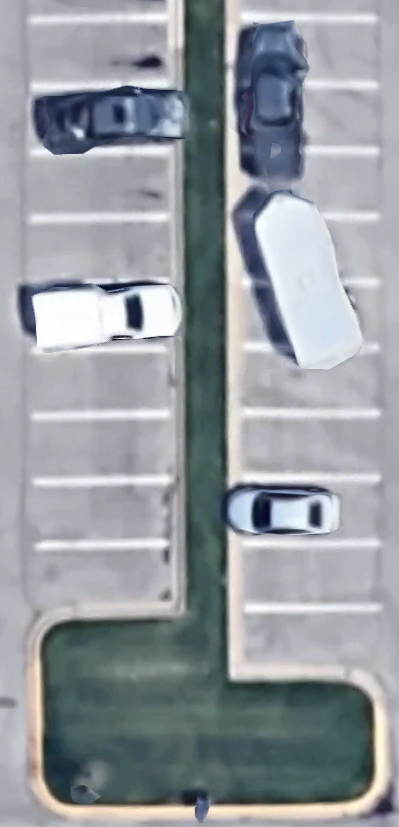Occupied: (233, 15, 377, 85), (233, 217, 379, 285), (30, 282, 176, 350), (233, 85, 377, 152), (235, 477, 379, 544), (233, 348, 379, 414), (233, 284, 380, 349), (28, 87, 176, 150), (233, 153, 379, 216)
Vacant: (28, 17, 172, 87), (30, 151, 177, 218), (32, 479, 174, 546), (234, 544, 379, 609), (30, 350, 175, 414), (31, 415, 175, 479), (30, 218, 176, 281), (234, 414, 379, 476), (32, 545, 174, 607)
